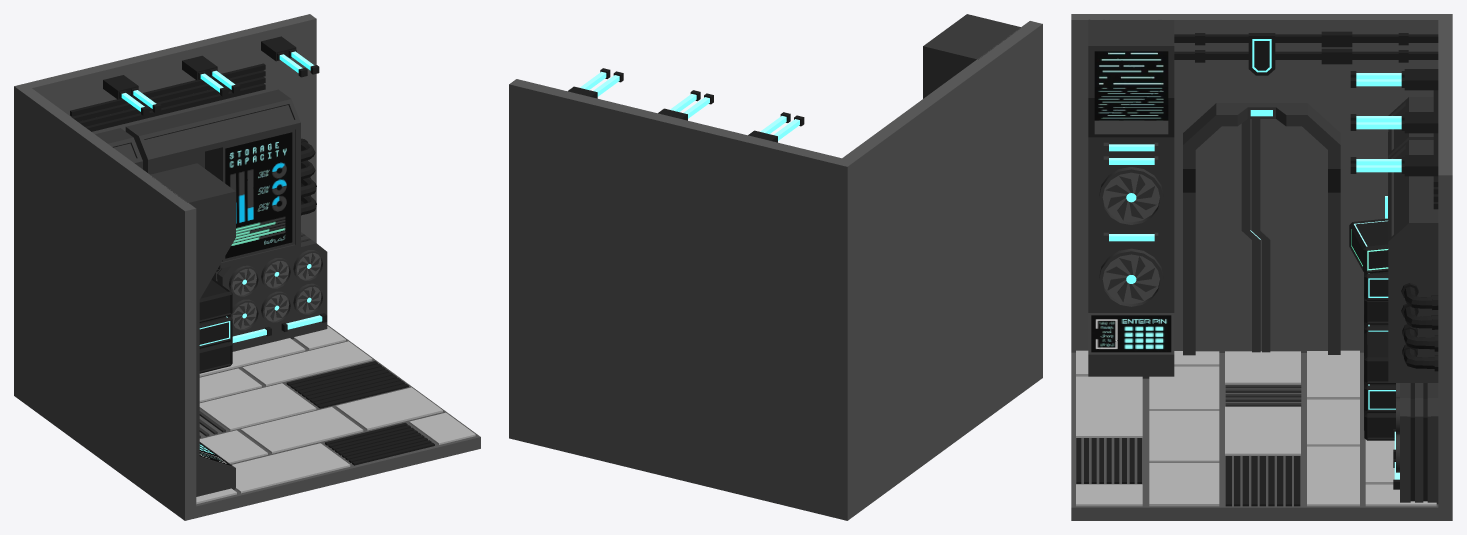
Rendered from storage-room.glb.
The picture shows the model from 3 angles, left to right: view 1: azimuth 30°, elevation 25°; view 2: azimuth 150°, elevation 25°; view 3: azimuth 270°, elevation 25°; orthographic projection. The views are drawn at different scales.
Visible parts, largest first — view 1: Object_4, Object_6, Object_16, Object_8, Object_5, Object_17, Object_7; view 2: Object_4, Object_6, Object_7, Object_8; view 3: Object_4, Object_6, Object_16, Object_8, Object_5, Object_17, Object_7, Object_18.
Boxes of the visible parts, bbox=[...] form: Object_4: bbox=[14, 14, 480, 520]; Object_6: bbox=[95, 89, 327, 496]; Object_16: bbox=[196, 326, 475, 504]; Object_8: bbox=[70, 36, 327, 373]; Object_5: bbox=[199, 132, 292, 465]; Object_17: bbox=[286, 361, 434, 465]; Object_7: bbox=[121, 51, 322, 345]; Object_4: bbox=[509, 21, 1042, 520]; Object_6: bbox=[923, 14, 1021, 98]; Object_7: bbox=[580, 71, 799, 140]; Object_8: bbox=[568, 68, 804, 142]; Object_4: bbox=[1071, 14, 1452, 520]; Object_6: bbox=[1088, 19, 1438, 504]; Object_16: bbox=[1076, 350, 1436, 506]; Object_8: bbox=[1174, 31, 1438, 501]; Object_5: bbox=[1091, 51, 1171, 352]; Object_17: bbox=[1076, 438, 1300, 506]; Object_7: bbox=[1109, 39, 1401, 479]; Object_18: bbox=[1225, 385, 1301, 406].
Size of the model in its own units: 2.63 by 2.63 by 2.63.
Materials: 7 (1 with a texture image).
